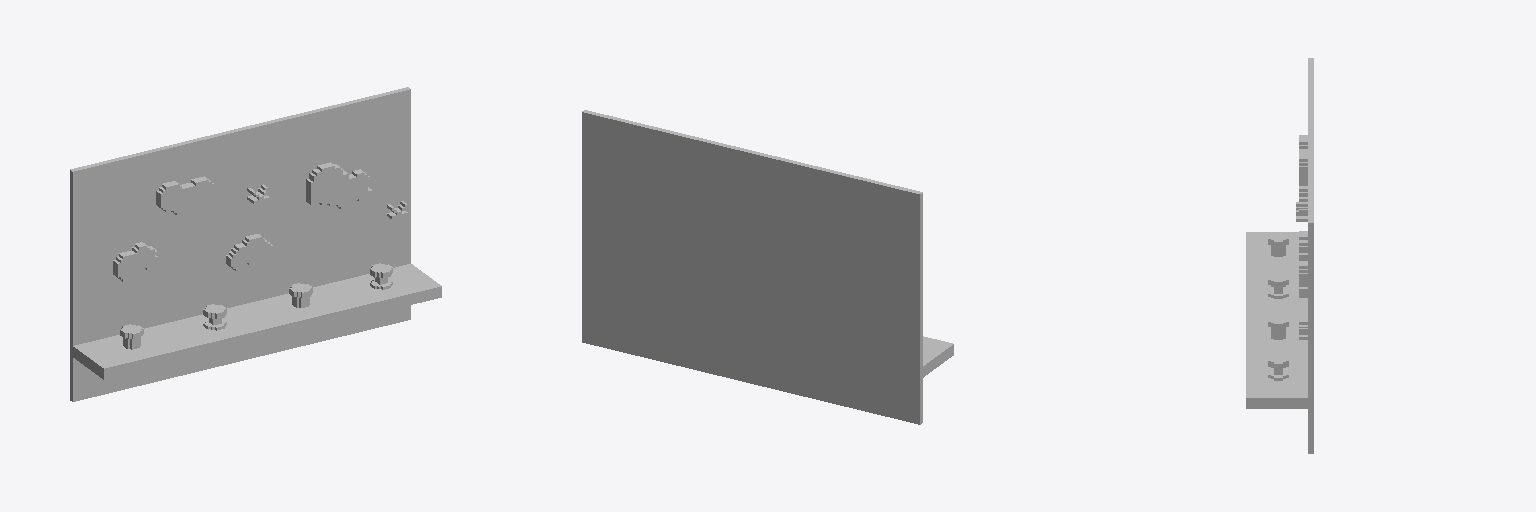
The model's file is sence guocheng.obj.
The picture shows the model from 3 angles: view 1: azimuth 30°, elevation 25°; view 2: azimuth 150°, elevation 25°; view 3: azimuth 270°, elevation 25°; orthographic projection.
Visible parts, largest first — view 1: sence guocheng; view 2: sence guocheng; view 3: sence guocheng.
Part boxes in pixels (x1,y1,x2,y2): sence guocheng: (70,87,441,401); sence guocheng: (582,110,953,424); sence guocheng: (1246,58,1313,453).
Size of the model in its own units: 126 by 82 by 22.